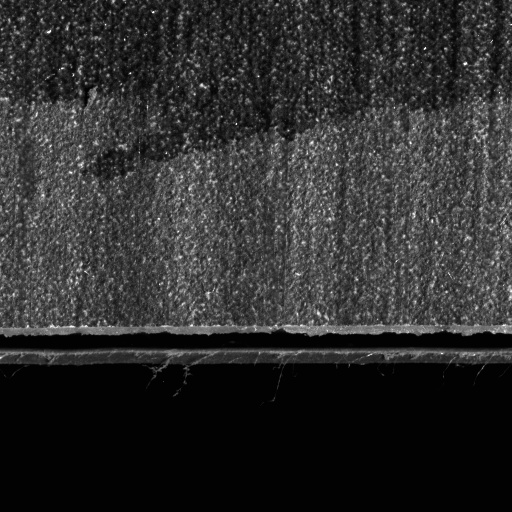kaijiao: (0, 322, 511, 368)
